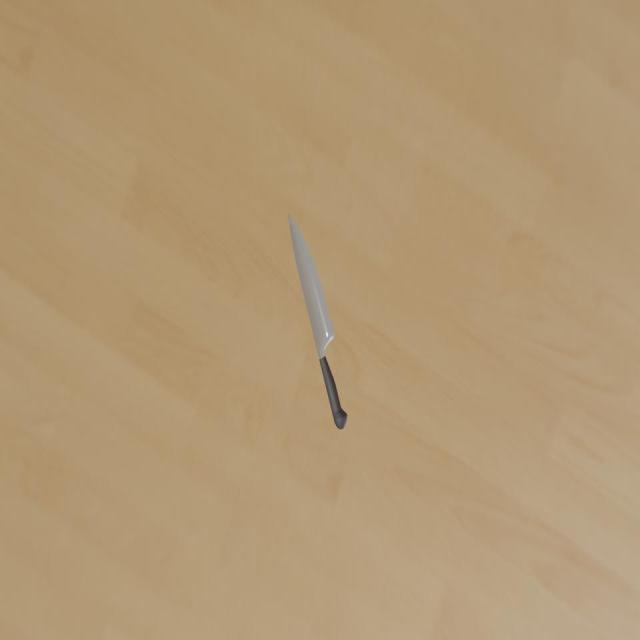knife: (319, 354, 347, 429)
